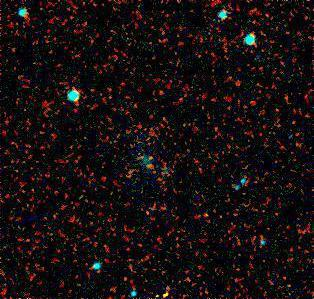star: (150, 277, 180, 299)
